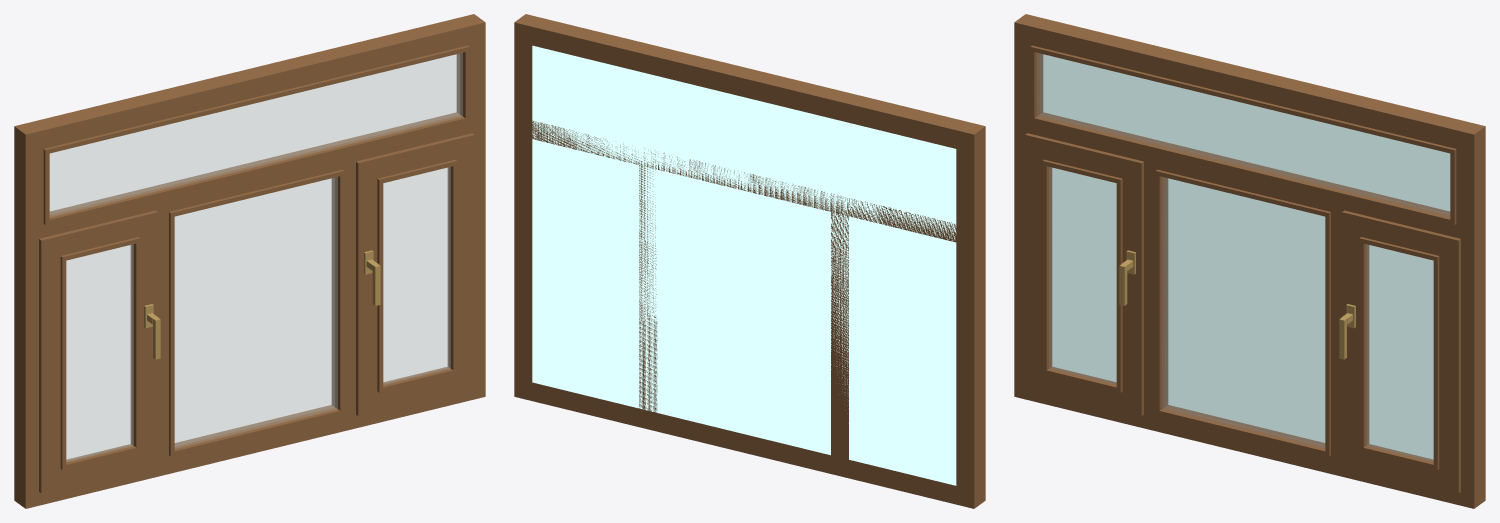
File: panoramica_1800x1400.glb
The picture shows the model from 3 angles, left to right: view 1: azimuth 30°, elevation 25°; view 2: azimuth 150°, elevation 25°; view 3: azimuth 330°, elevation 25°; orthographic projection.
Visible parts, largest first — view 1: Ventana panorámica roble 180 x 140 cm; view 2: Ventana panorámica roble 180 x 140 cm; view 3: Ventana panorámica roble 180 x 140 cm.
Part boxes in pixels (bbox=[...]): Ventana panorámica roble 180 x 140 cm: bbox=[14, 14, 485, 508]; Ventana panorámica roble 180 x 140 cm: bbox=[514, 14, 985, 508]; Ventana panorámica roble 180 x 140 cm: bbox=[1014, 14, 1485, 508].
Size of the model in its own units: 1.8 by 1.4 by 0.162.
